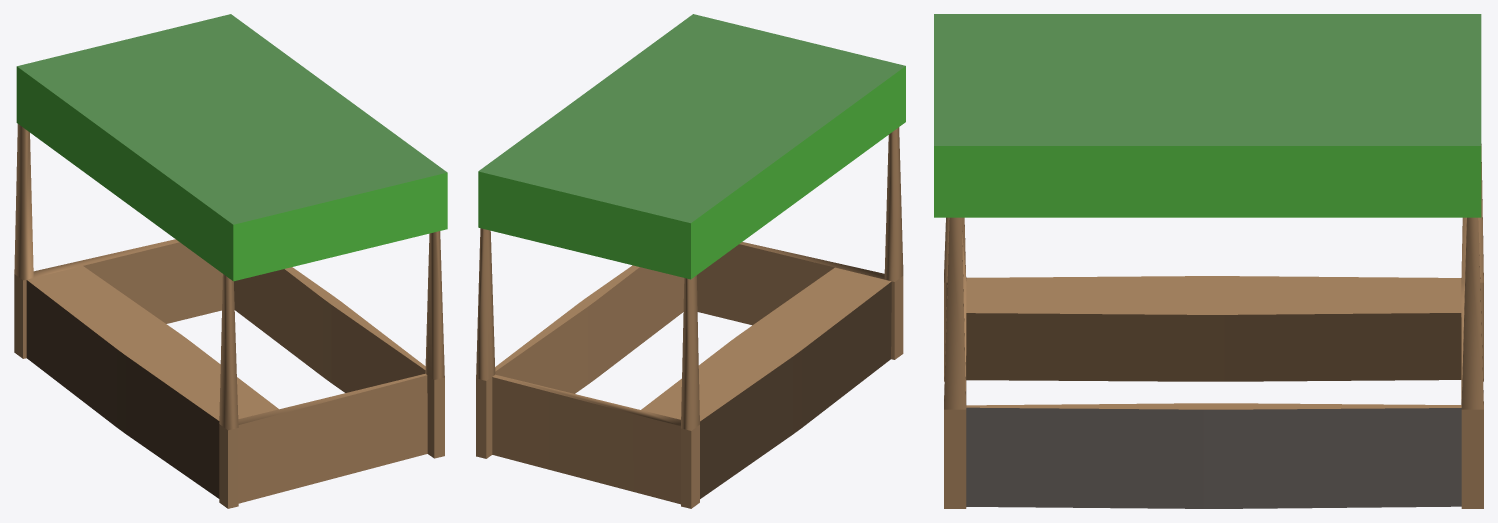
File: Market_Stand.fbx
3 views of the same model, side by side, from view 1: azimuth 30°, elevation 25°; view 2: azimuth 150°, elevation 25°; view 3: azimuth 270°, elevation 25° (orthographic). The views are drawn at different scales.
Visible parts, largest first — view 1: pCube3; view 2: pCube3; view 3: pCube3.
Boxes of the visible parts, x1,y1,x2,y2 form: pCube3: (14, 14, 447, 508); pCube3: (476, 14, 905, 508); pCube3: (934, 14, 1483, 508).
Size of the model in its own units: 6.09 by 7.69 by 10.58.
